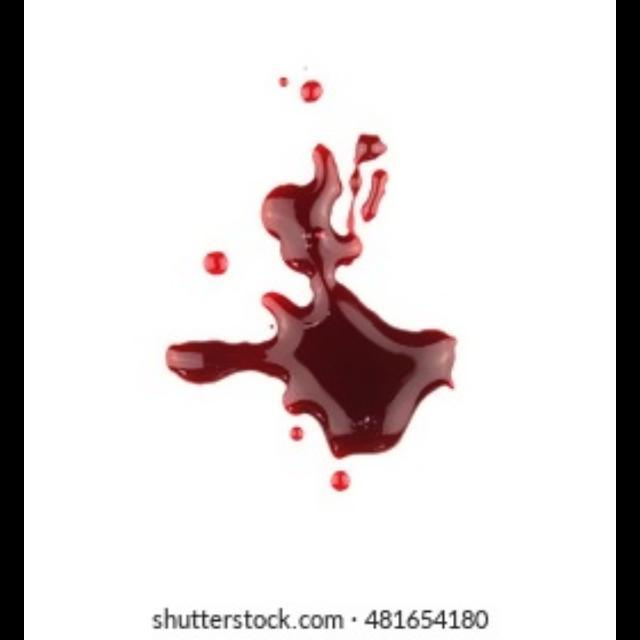blood: (163, 133, 456, 459), (360, 167, 387, 222), (298, 78, 326, 105), (202, 249, 227, 277), (328, 469, 351, 491)
